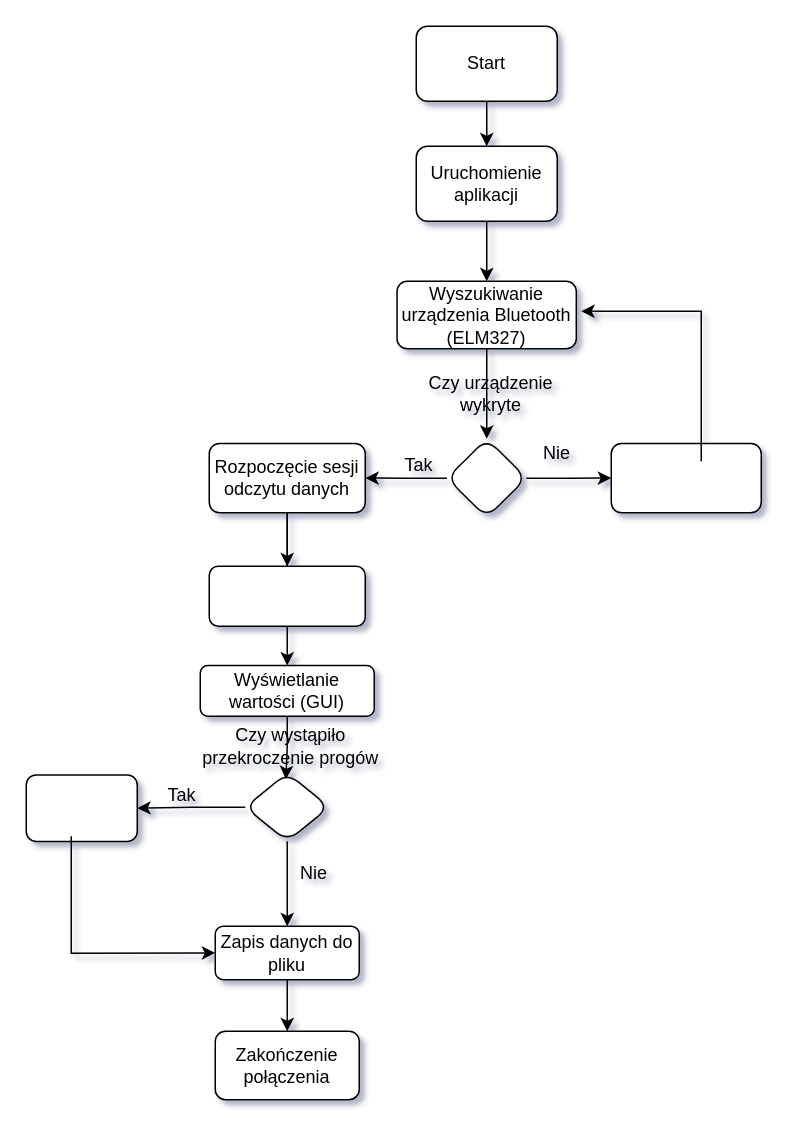
Some shapes in this 797 by 1136 pixel diagram are drawn without their labels. The shapes that lost their labels are listed below. From the top down, each one's box as (x1, y1, x2, y2) in pixels, then its label:
(610, 442, 761, 513): Wyświetl komunikat o błędzie
(208, 565, 365, 626): Wybranie parametrów do monitorowania
(25, 773, 137, 842): Wyświetl alert
